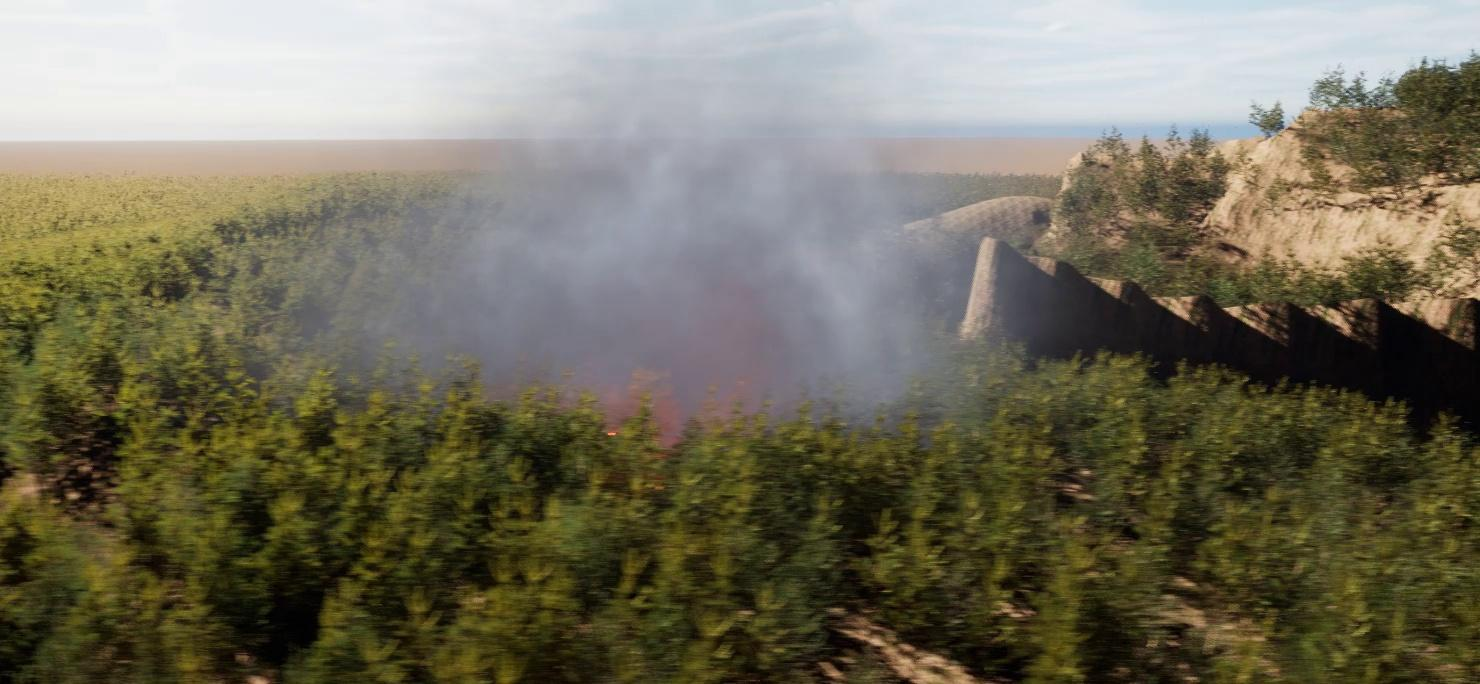smoke: (256, 0, 985, 442)
